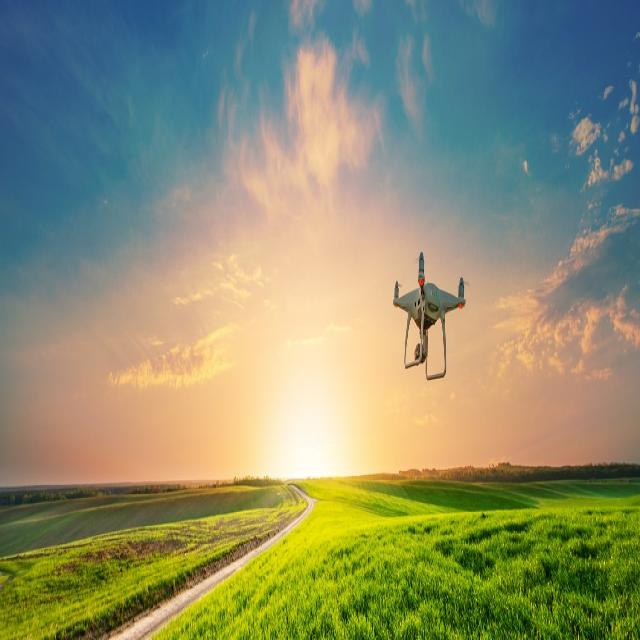drone: (390, 250, 470, 384)
